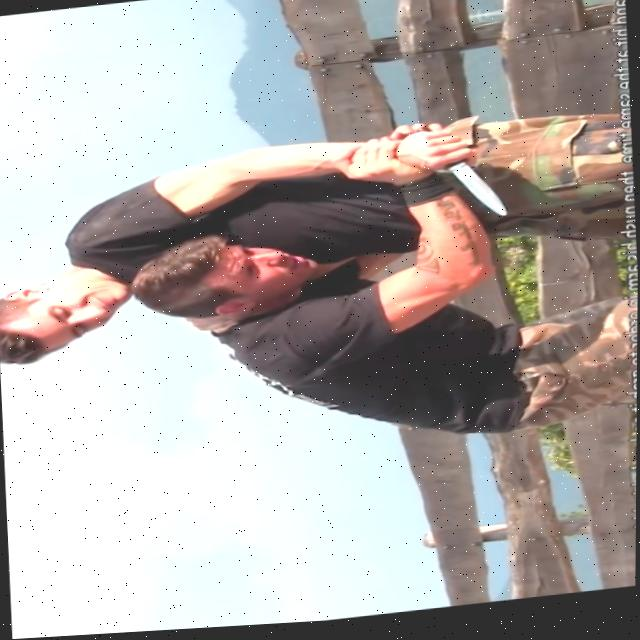knife: (445, 162, 508, 228)
